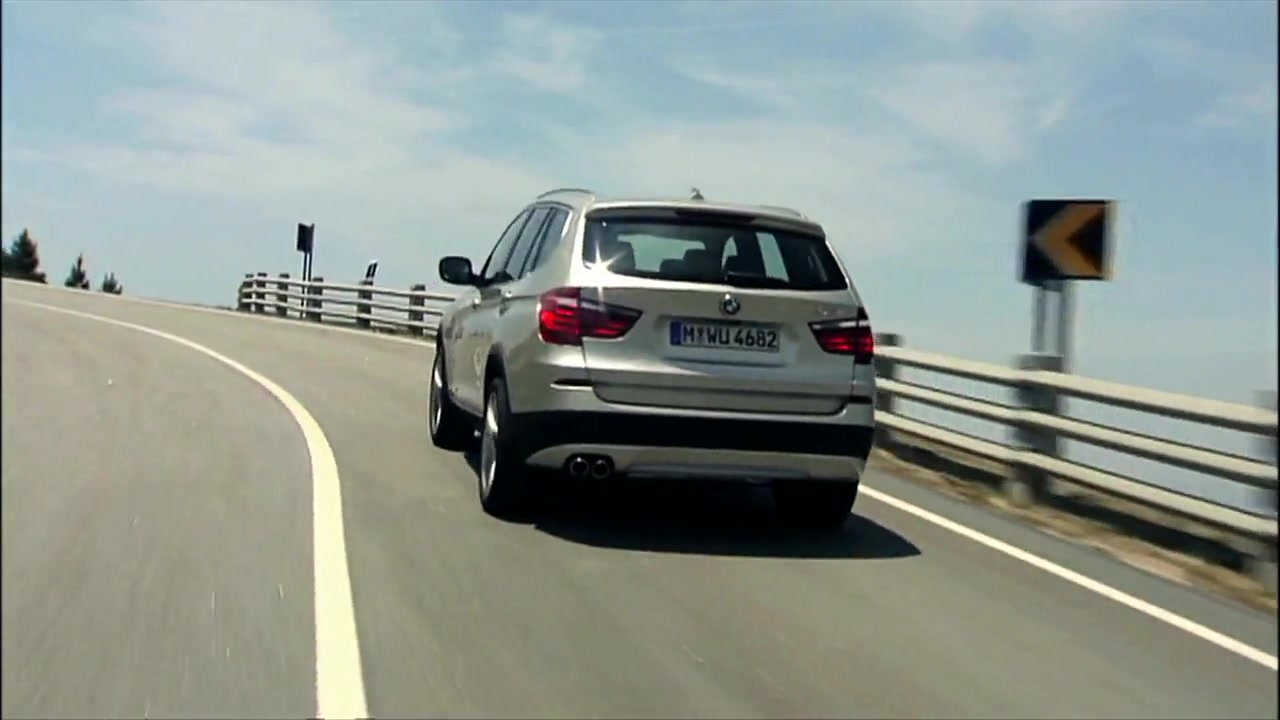car: (427, 187, 887, 537)
